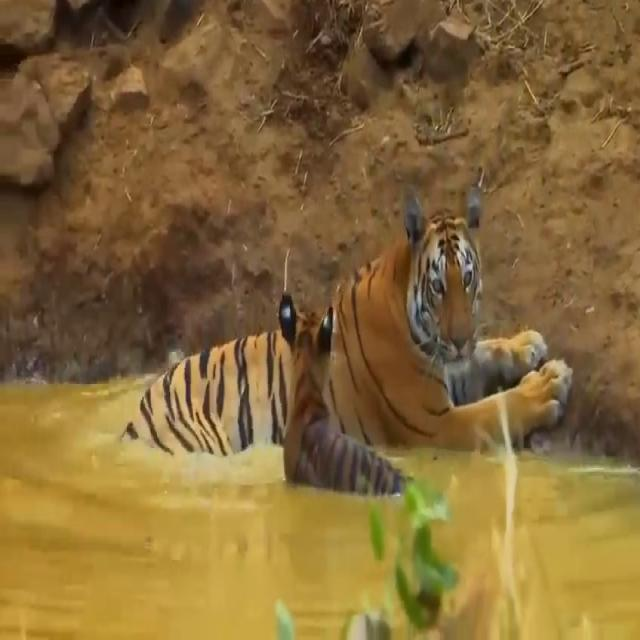tiger: (124, 165, 576, 448)
